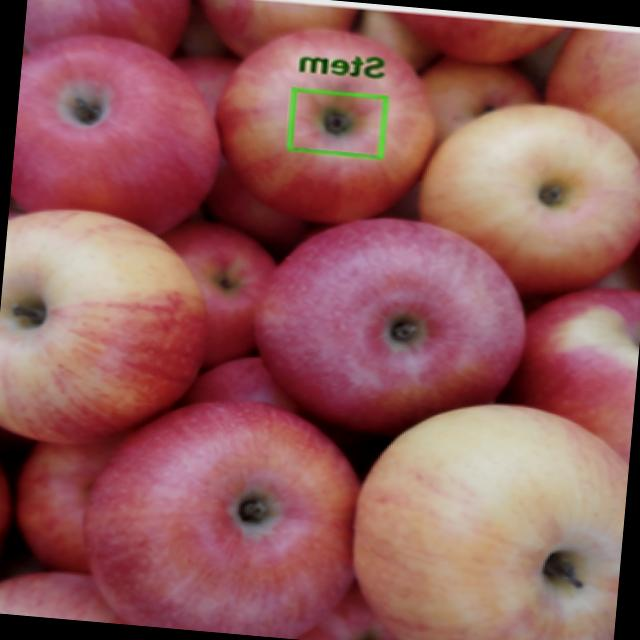Fruit-Stem-Detection: (188, 472, 296, 556), (0, 271, 104, 344), (358, 300, 458, 368), (291, 84, 384, 154), (497, 170, 593, 230), (511, 538, 597, 592), (50, 82, 125, 128), (210, 228, 252, 296)
